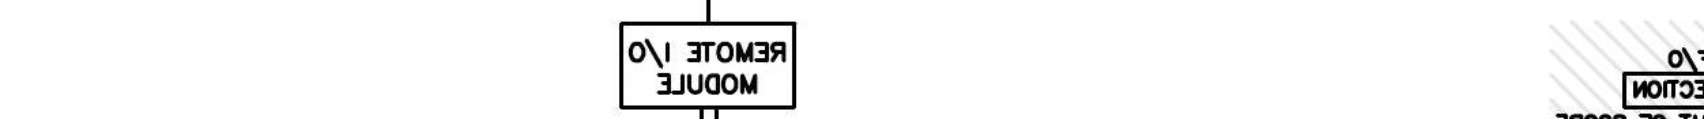remote_io_module: (618, 21, 797, 110)
